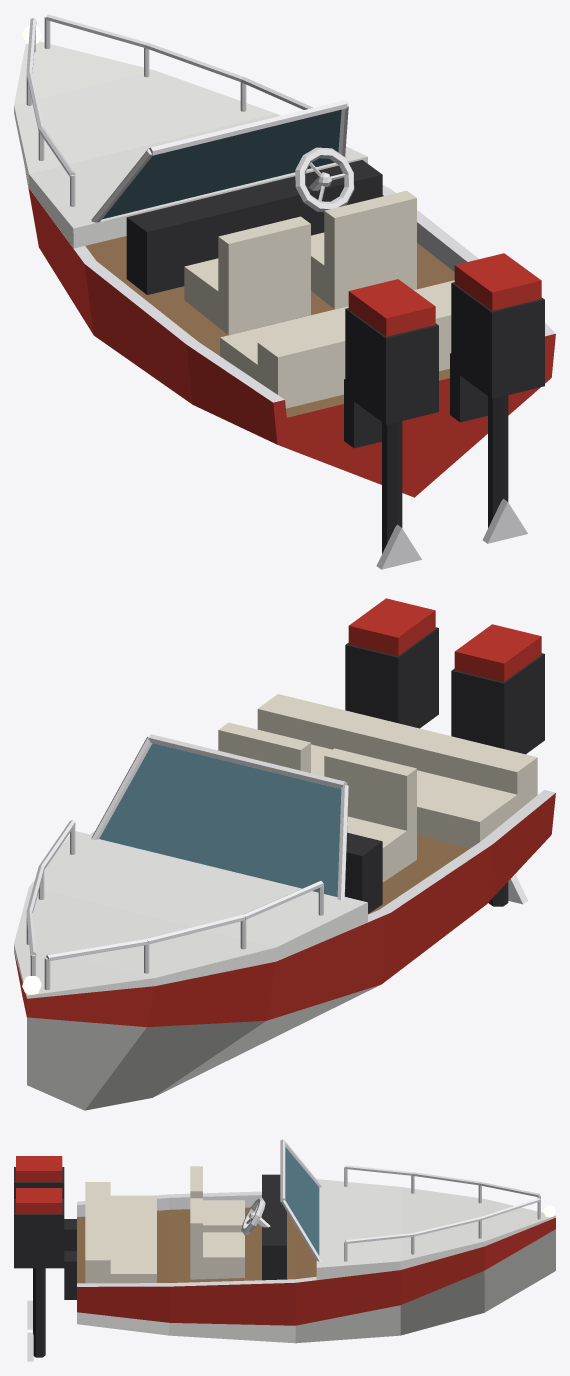
The model's file is speedboat.glb.
3 renders of one model, top to bottom at view 1: azimuth 30°, elevation 25°; view 2: azimuth 150°, elevation 25°; view 3: azimuth 270°, elevation 25°, orthographic. The views are drawn at different scales.
Parts seen in each view (by area): view 1: Hull, Foredeck, Dash, Windshield, SeatBack.001, SeatBack, Engine, Engine.001, RearBack, EngineCap, EngineCap.001, RearBench (+13 smaller); view 2: Hull, Foredeck, Windshield, RearBack, Engine.001, Engine, RearBench, SeatBack.001, EngineCap.001, EngineCap, SeatBack, Dash (+6 smaller); view 3: Hull, Foredeck, RearBench, Engine, RearBack, Dash, Windshield, Seat, Seat.001, EngineCap, EngineCap.001, EngShaft (+12 smaller).
Boxes of the visible parts, x1,y1,x2,y2 form: Hull: (21,148,555,497); Foredeck: (14,41,367,248); Dash: (126,160,382,294); Windshield: (102,109,341,219); SeatBack.001: (218,216,310,335); SeatBack: (324,190,416,309); Engine: (451,282,544,398); Engine.001: (345,308,438,424); RearBack: (257,295,451,408); EngineCap: (454,253,541,310); EngineCap.001: (348,279,435,336); RearBench: (220,280,454,381); Hull: (14,790,555,1110); Foredeck: (14,831,367,998); Windshield: (99,743,341,896); RearBack: (257,694,537,811); Engine.001: (451,653,544,754); Engine: (345,627,438,728); RearBench: (311,744,517,847); SeatBack.001: (324,748,416,865); EngineCap.001: (454,624,541,681); EngineCap: (348,598,435,655); SeatBack: (218,722,310,772); Dash: (345,832,382,913); Hull: (77,1191,555,1343); Foredeck: (316,1179,555,1279); RearBench: (110,1195,156,1283); Engine: (14,1199,64,1268); RearBack: (85,1182,110,1283); Dash: (262,1174,286,1280); Windshield: (285,1147,319,1255); Seat: (203,1232,244,1279); Seat.001: (203,1200,244,1232); EngineCap: (16,1188,62,1214); EngineCap.001: (16,1156,62,1182); EngShaft: (33,1268,45,1357).
Bounding box in the file's own units: 0.4264 × 0.376 × 1.06.
